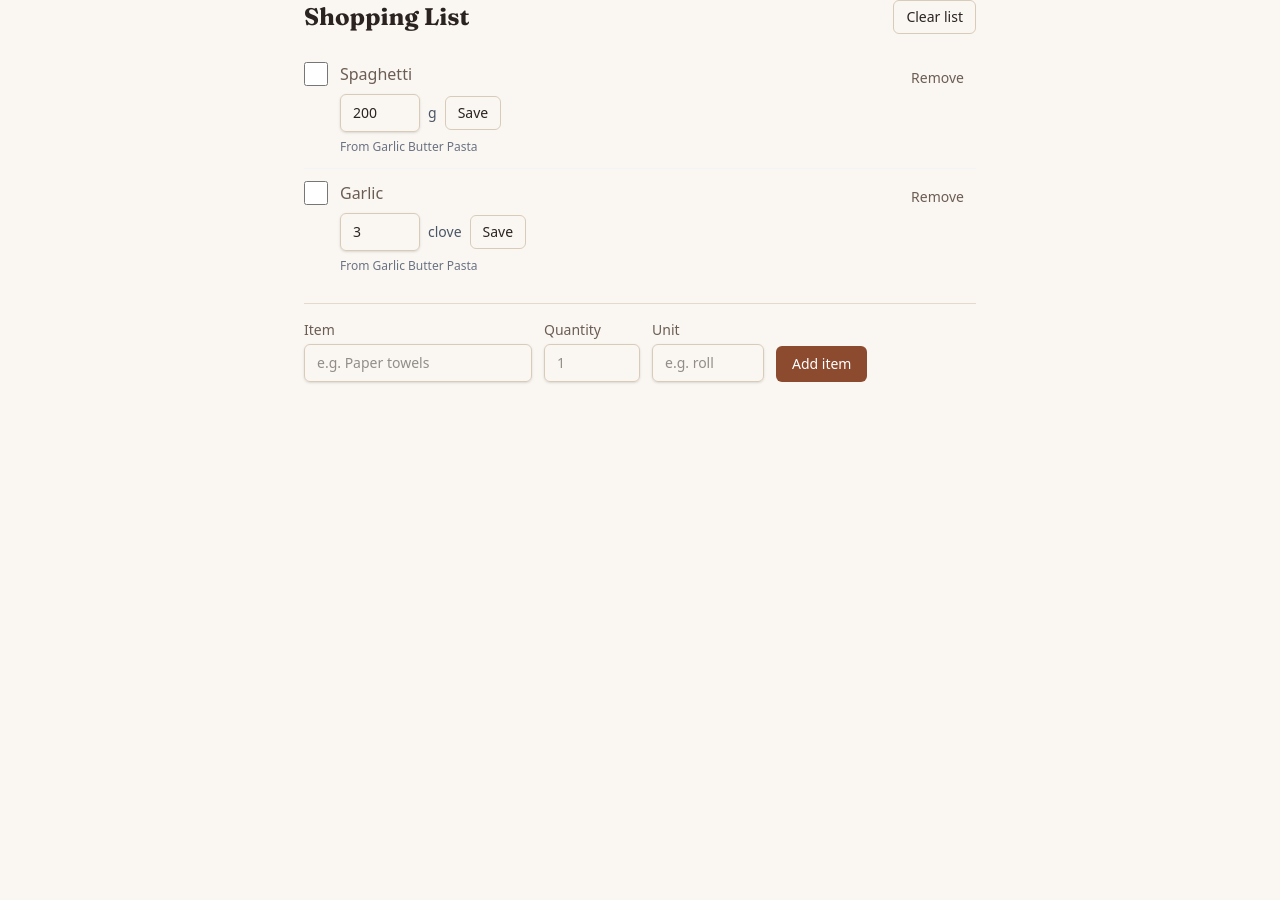
ShoppingList (against the typed mock) › clearing the list (AC4, AC5, AC6) › clears every item on confirm, after which the empty state explains how to start again
Expected: the checkbox labelled "Spaghetti" is shown, [304,62,328,86]
What coordinates should you click on to do the following:
click the button "Clear list"
I would click on:
 (935, 17)
Its box is [893,0,976,34].
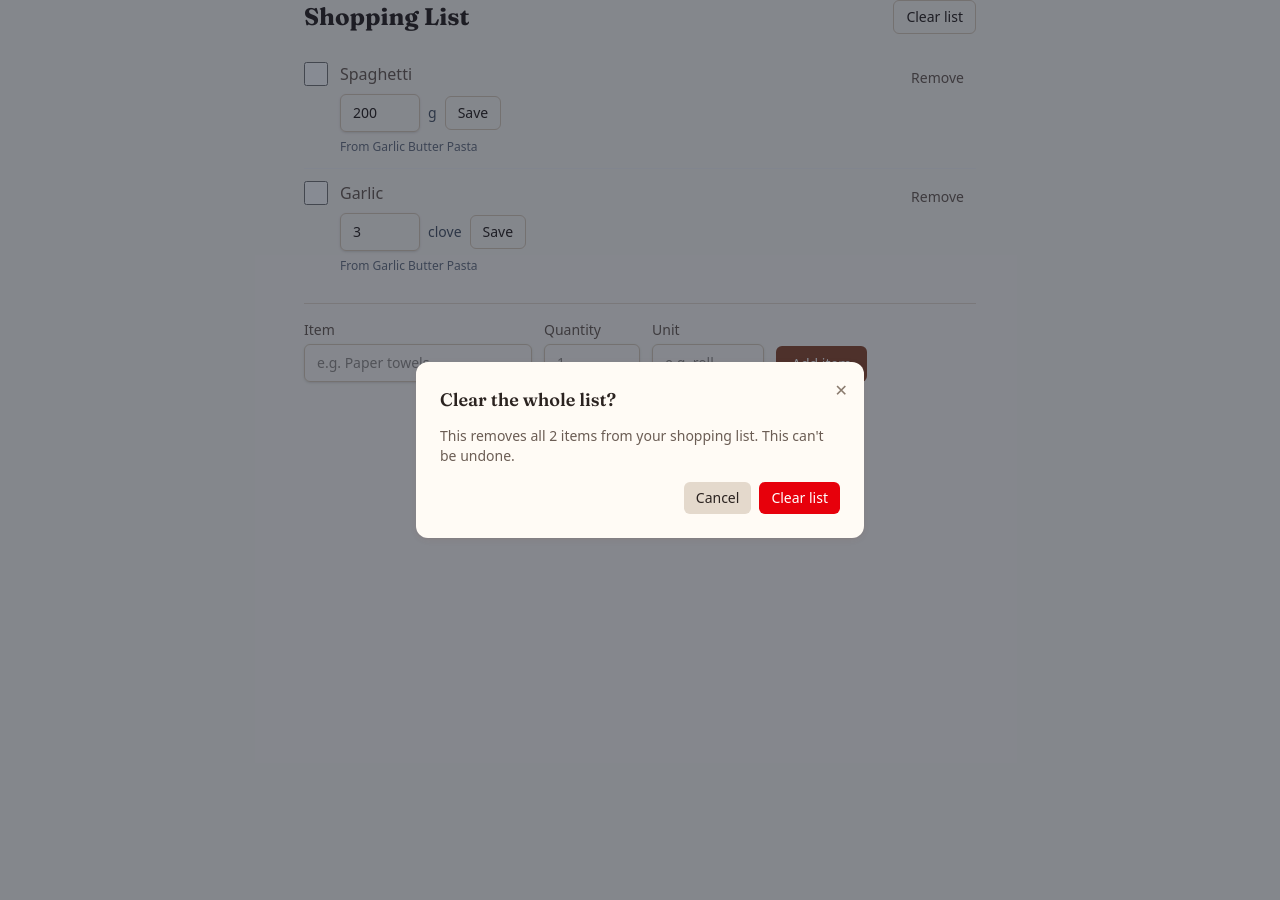
What coordinates should you click on to do the following:
click the button "Clear list"
I would click on:
 (800, 498)
Its box is [759,482,840,514].
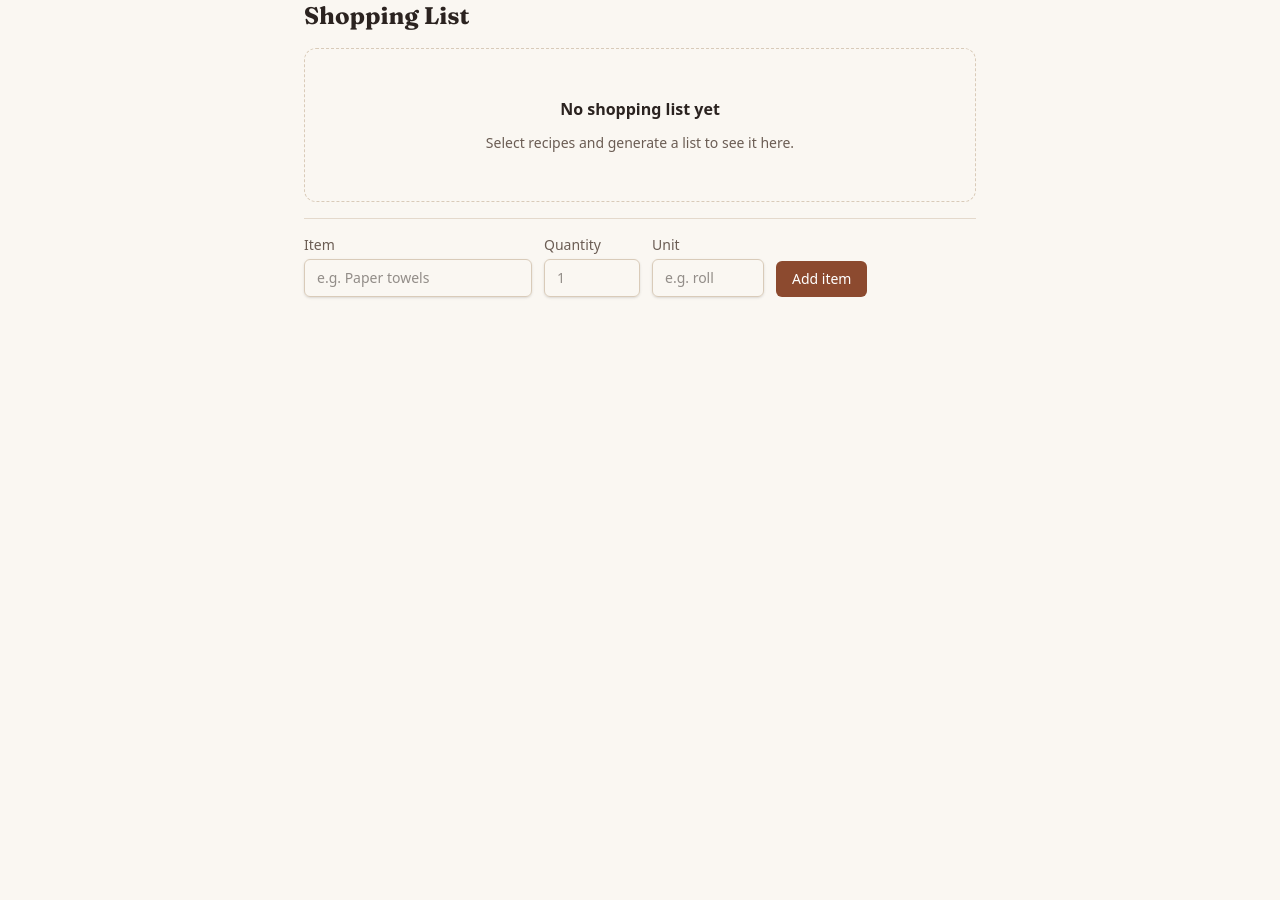
Expected: the dialog is gone
Expected: the label "Spaghetti" is gone
Expected: the text "No shopping list yet" is shown, [560,97,720,121]
